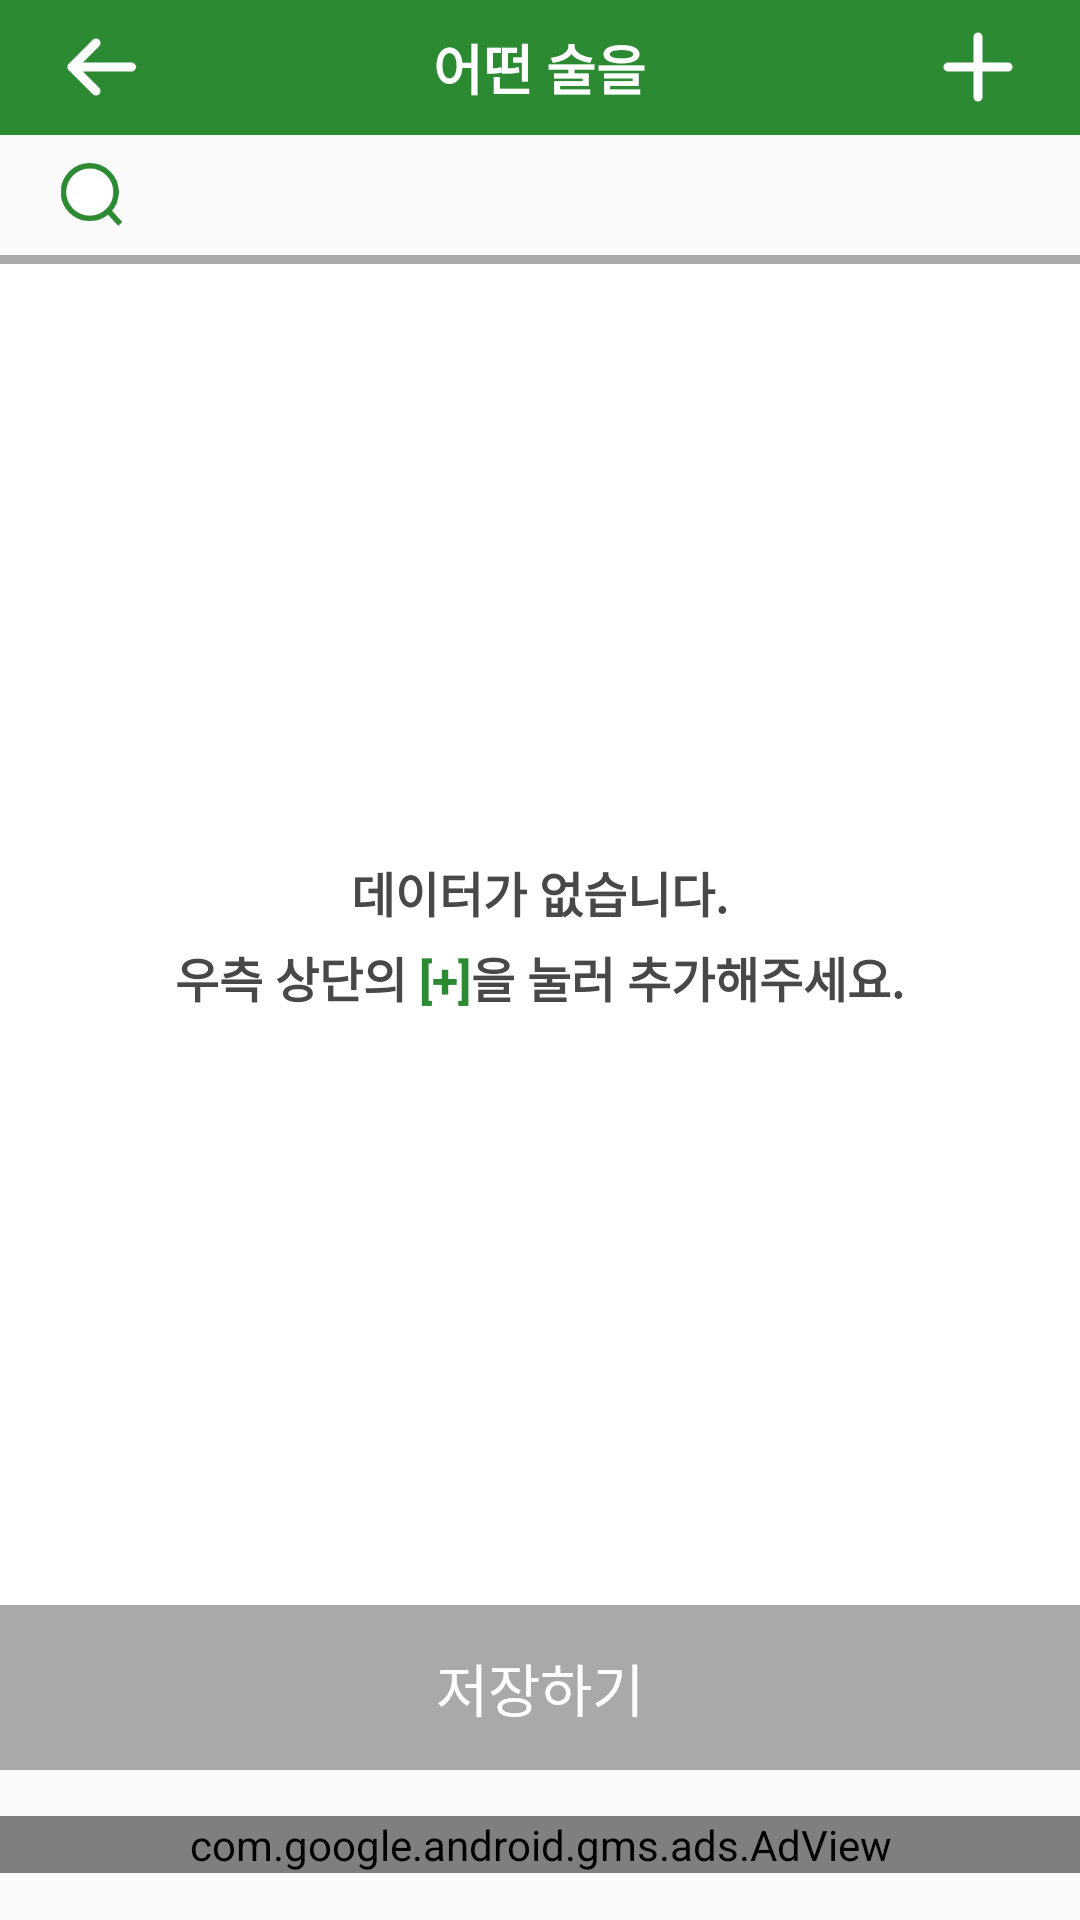

Where icons sit on this 1080×1920 app screen, as [x1,y1,x2,y2]:
add: [943,32,1013,102]
back: [67,38,136,96]
search: [61,163,122,226]
